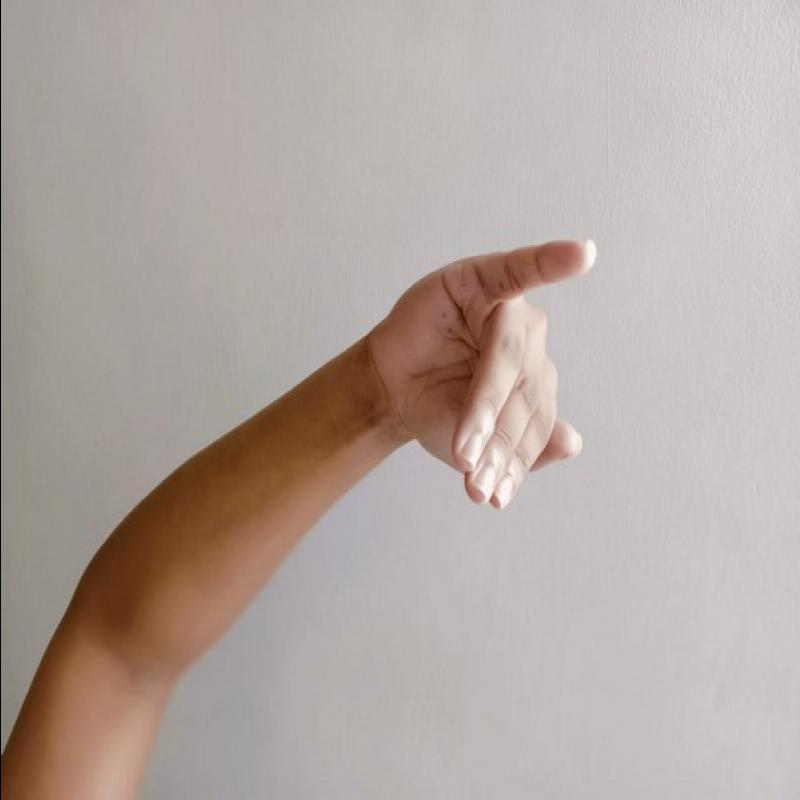Kartharee Mukham: (354, 218, 638, 527)
